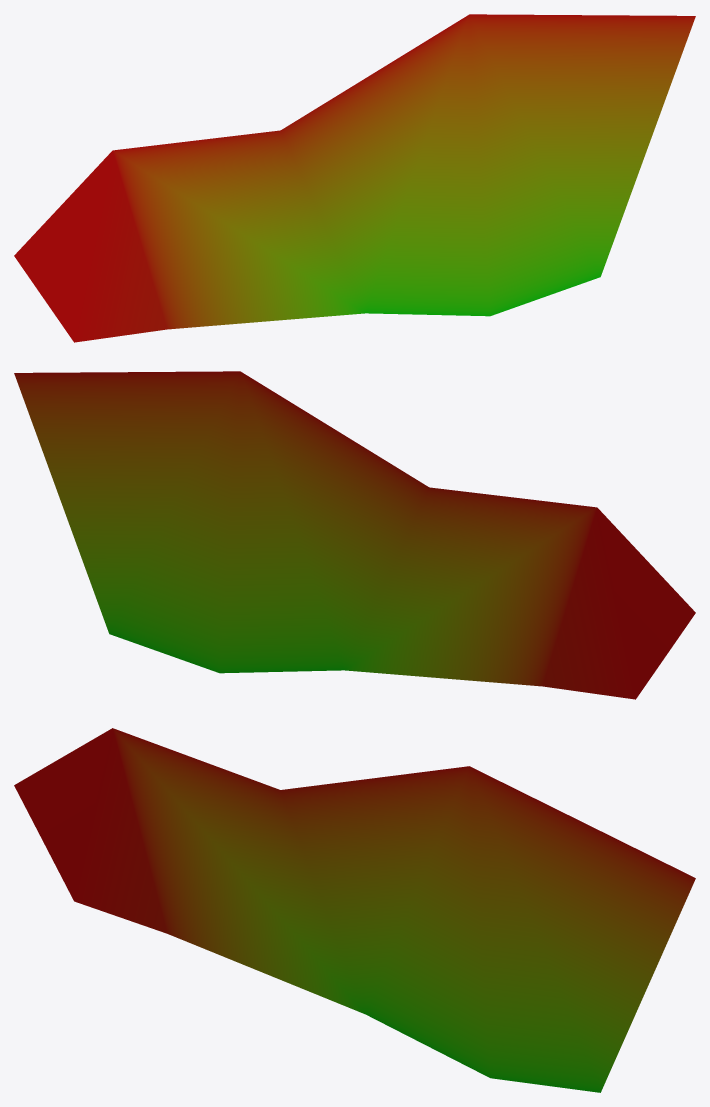
The model's file is Var8_LOD6.fbx.
3 renders of one model, top to bottom at view 1: azimuth 30°, elevation 25°; view 2: azimuth 150°, elevation 25°; view 3: azimuth 330°, elevation 25°, orthographic.
Visible parts, largest first — view 1: _5vyy_Var8_LOD6; view 2: _5vyy_Var8_LOD6; view 3: _5vyy_Var8_LOD6.
Boxes of the visible parts, x1,y1,x2,y2 form: _5vyy_Var8_LOD6: (14,14,695,342); _5vyy_Var8_LOD6: (14,371,695,699); _5vyy_Var8_LOD6: (14,728,695,1092).
Bounding box in the file's own units: 54.31 × 23.36 × 2.78e-06.
